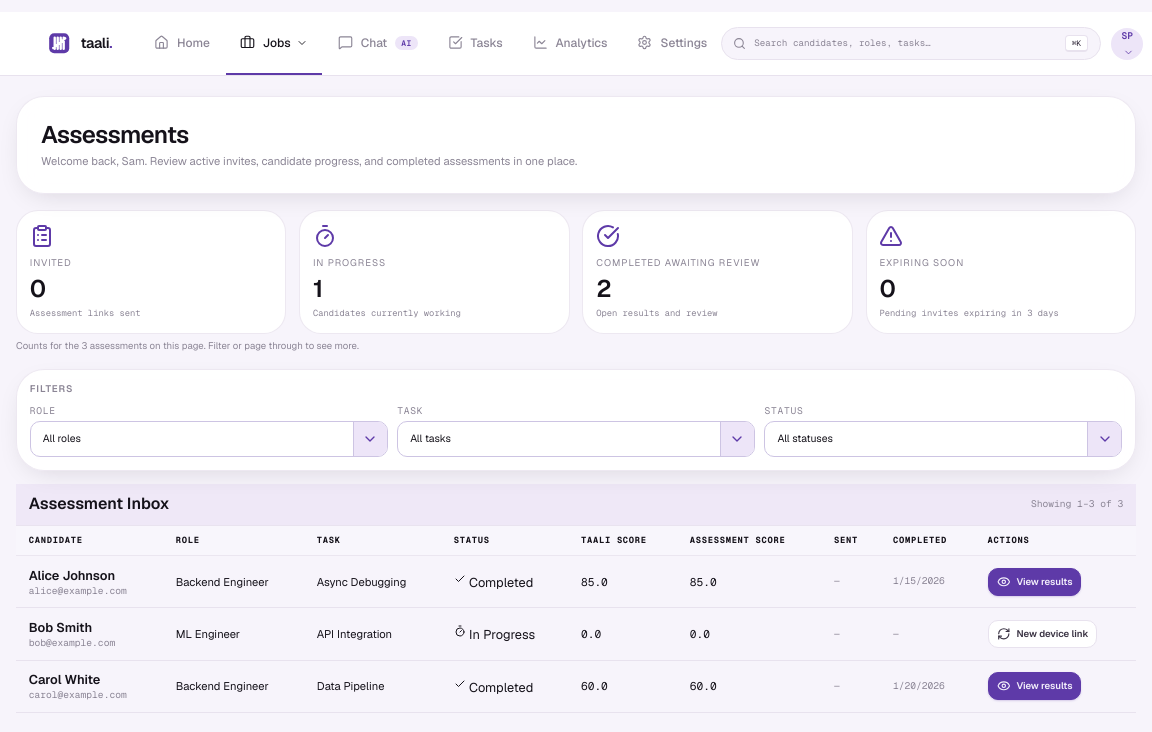
it: AssessmentsPage › refreshes stale organization names in the avatar menu from the organization endpoint
This screenshot has width=1152, height=732.
Step 1. Click the button with aria-label "account menu" → (1127, 44), box [1111,28,1143,60]
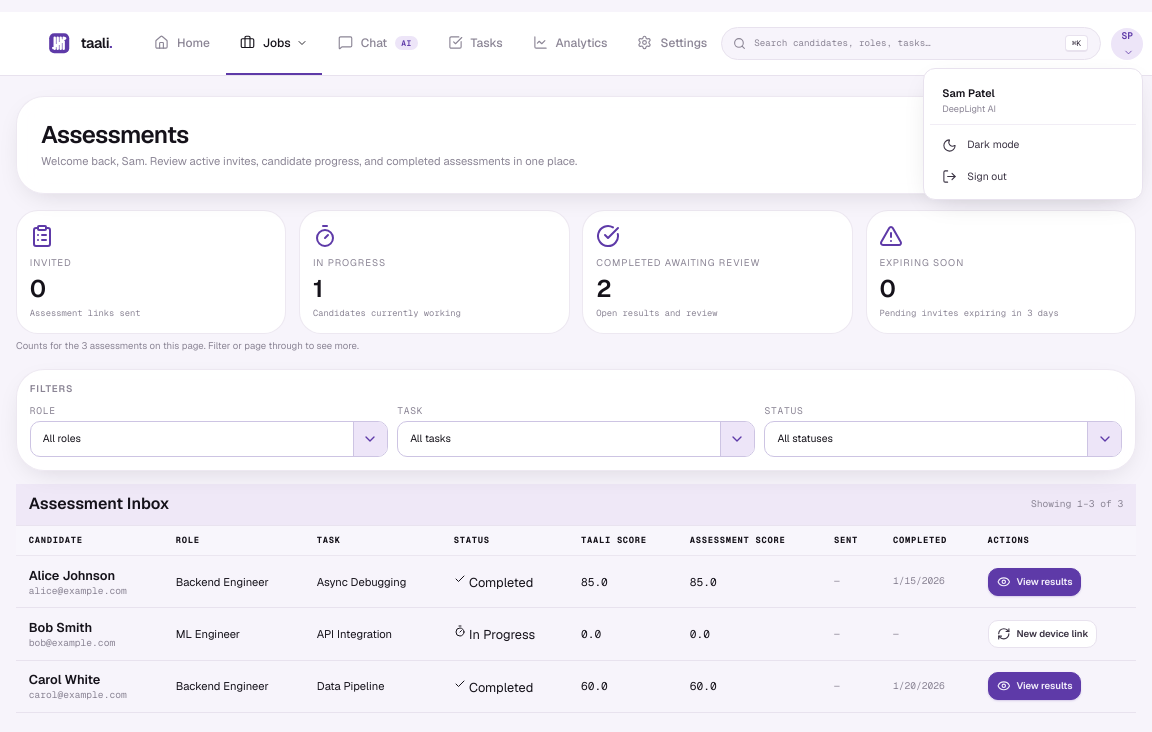
Now the text "Sam Patel" is shown, box [942,86,995,100]
Now the text "DeepLight AI" is shown, box [942,103,996,115]
